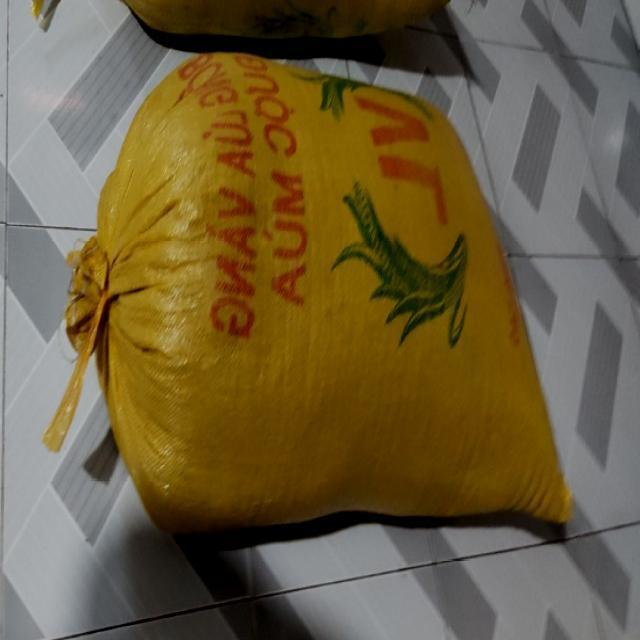gunny_bag: (43, 51, 573, 533)
